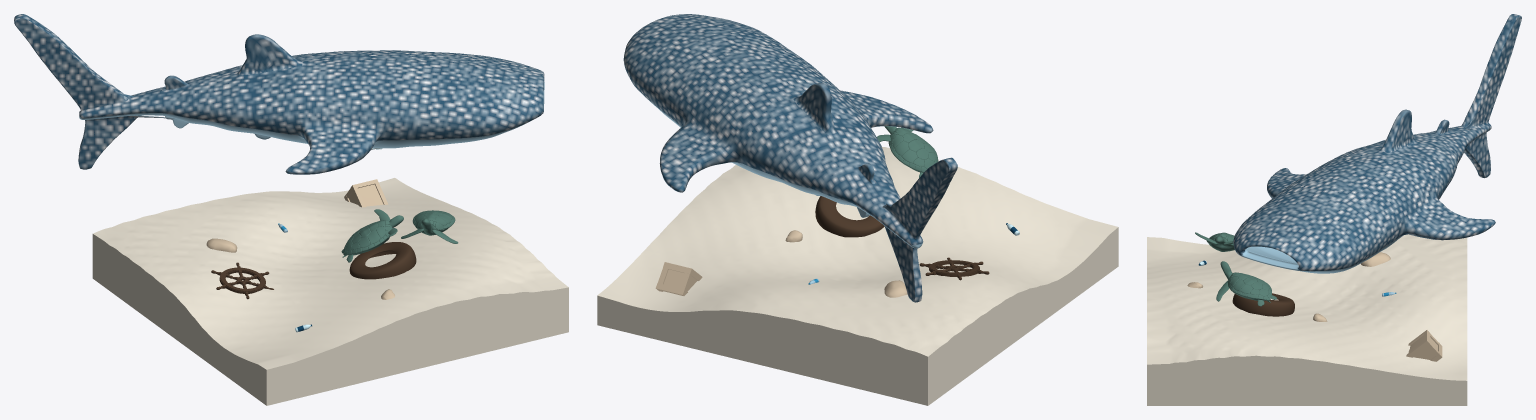
File: Scene2_sketchfabs.fbx
The picture shows the model from 3 angles, left to right: view 1: azimuth 30°, elevation 25°; view 2: azimuth 150°, elevation 25°; view 3: azimuth 270°, elevation 25°; orthographic projection. The views are drawn at different scales.
Parts seen in each view (by area): view 1: sand, Asset5:pCylinder1, Tire:tire_geo, Asset4_2nd:polySurface5, Asset4:Turtle1, Asset6:Wheel, Scene2_box:box_geo; view 2: sand, Asset5:pCylinder1, Asset4_2nd:polySurface5, Tire:tire_geo, Scene2_box:box_geo, Asset6:Wheel; view 3: sand, Asset5:pCylinder1, Asset4:Turtle1, Tire:tire_geo, Scene2_box:box_geo, Asset4_2nd:polySurface5.
Part boxes in pixels (<box>): sand: <box>92,178,568,405</box>; Asset5:pCylinder1: <box>14,14,544,174</box>; Tire:tire_geo: <box>349,242,416,279</box>; Asset4_2nd:polySurface5: <box>341,209,403,262</box>; Asset4:Turtle1: <box>401,210,458,243</box>; Asset6:Wheel: <box>211,262,273,299</box>; Scene2_box:box_geo: <box>344,179,388,207</box>; sand: <box>597,147,1118,405</box>; Asset5:pCylinder1: <box>623,14,957,302</box>; Asset4_2nd:polySurface5: <box>877,126,938,177</box>; Tire:tire_geo: <box>815,196,884,237</box>; Scene2_box:box_geo: <box>655,262,702,295</box>; Asset6:Wheel: <box>919,257,989,280</box>; sand: <box>1147,234,1467,405</box>; Asset5:pCylinder1: <box>1233,14,1521,273</box>; Asset4:Turtle1: <box>1216,261,1277,306</box>; Tire:tire_geo: <box>1232,293,1294,316</box>; Scene2_box:box_geo: <box>1406,330,1442,361</box>; Asset4_2nd:polySurface5: <box>1195,232,1234,251</box>.
Bounding box in the file's own units: 116 × 68.49 × 99.06.
1 material, 1 textured.
